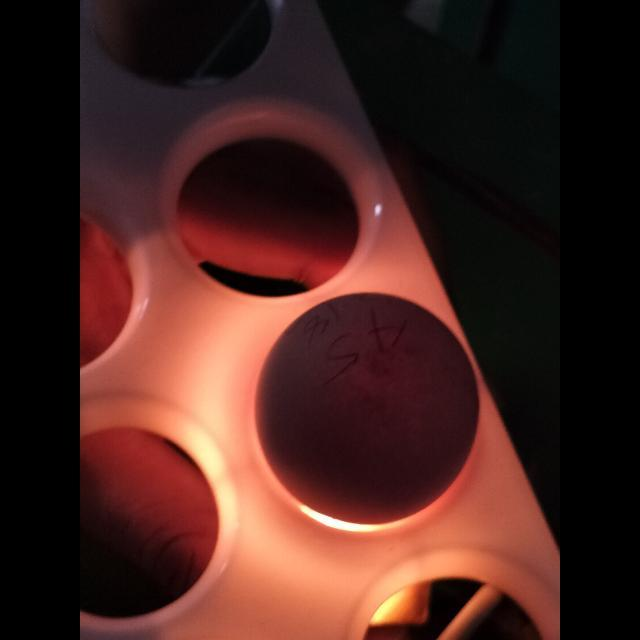Fertile: (254, 290, 481, 526)
